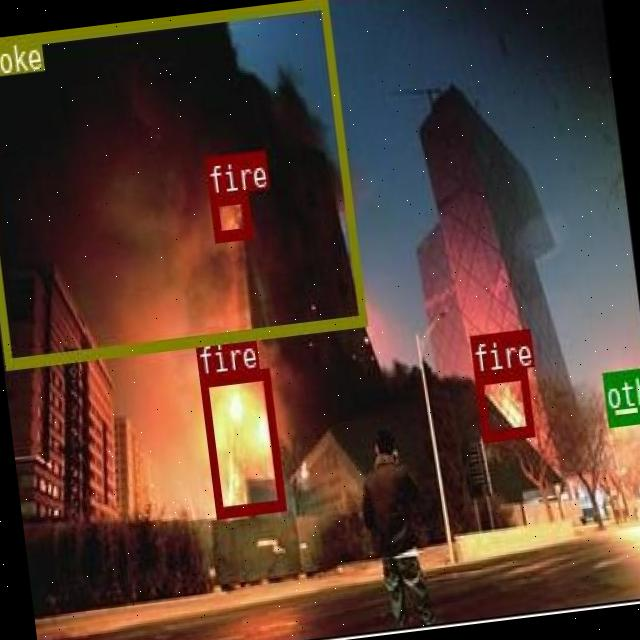fire: (198, 367, 284, 516), (472, 366, 532, 441), (208, 189, 251, 240)
smoke: (0, 0, 365, 369)
